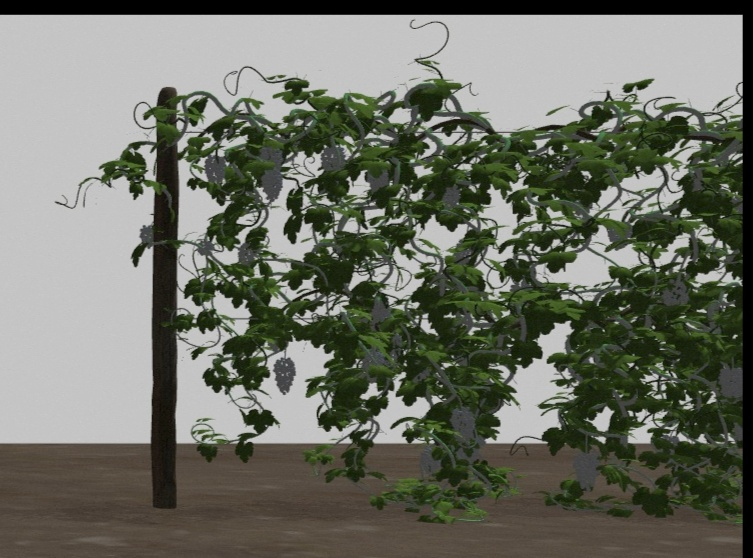grape: (571, 450, 602, 490), (449, 404, 476, 441), (272, 356, 295, 395), (717, 366, 741, 401), (257, 134, 281, 168), (417, 448, 441, 480), (203, 154, 226, 187), (318, 143, 346, 170), (260, 168, 282, 199), (138, 224, 153, 247)
